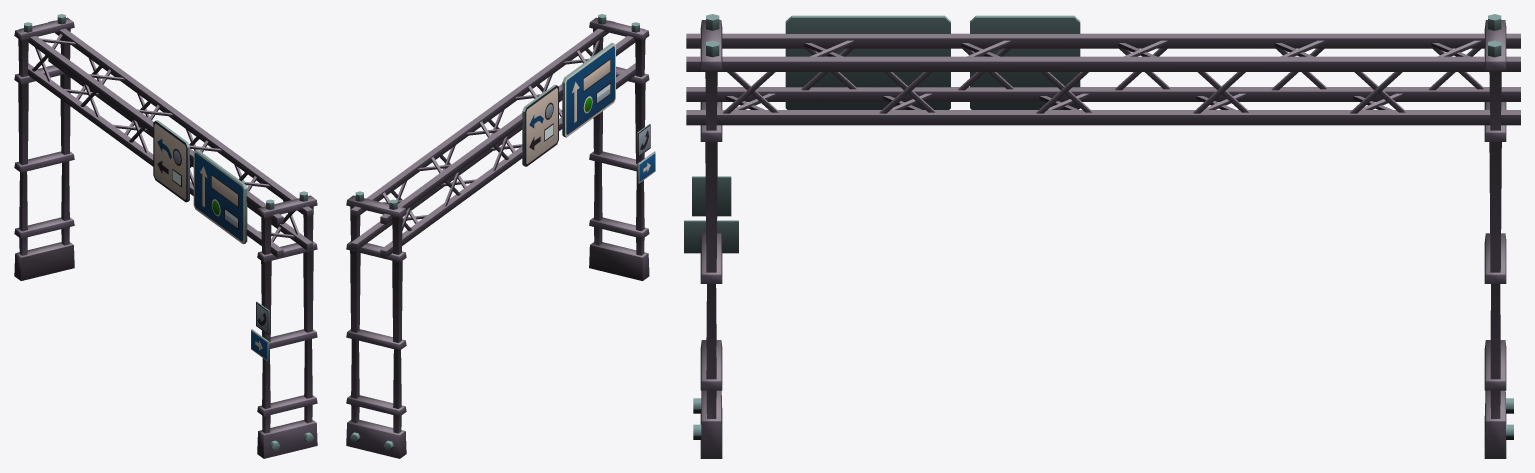
File: Highway_Streetsign_1B.fbx
3 renders of one model, left to right at view 1: azimuth 30°, elevation 25°; view 2: azimuth 150°, elevation 25°; view 3: azimuth 270°, elevation 25°, orthographic. The views are drawn at different scales.
Parts seen in each view (by area): view 1: Highway_Streetsign_1B, Addon_Sign_1E, Addon_Sign_1D, Addon_Sign_1G, Addon_Sign_1F; view 2: Highway_Streetsign_1B, Addon_Sign_1E, Addon_Sign_1D, Addon_Sign_1G, Addon_Sign_1F; view 3: Highway_Streetsign_1B, Addon_Sign_1E, Addon_Sign_1D, Addon_Sign_1G, Addon_Sign_1F.
Boxes of the visible parts, x1,y1,x2,y2 form: Highway_Streetsign_1B: [14, 14, 317, 458]; Addon_Sign_1E: [193, 149, 247, 243]; Addon_Sign_1D: [153, 120, 189, 202]; Addon_Sign_1G: [251, 329, 269, 361]; Addon_Sign_1F: [256, 301, 269, 334]; Highway_Streetsign_1B: [346, 14, 649, 458]; Addon_Sign_1E: [562, 43, 615, 137]; Addon_Sign_1D: [522, 84, 558, 166]; Addon_Sign_1G: [637, 151, 655, 183]; Addon_Sign_1F: [637, 124, 650, 157]; Highway_Streetsign_1B: [686, 14, 1520, 458]; Addon_Sign_1E: [785, 15, 950, 109]; Addon_Sign_1D: [970, 15, 1080, 109]; Addon_Sign_1G: [684, 220, 738, 253]; Addon_Sign_1F: [692, 176, 731, 216].
Size of the model in its own units: 79.64 by 349 by 651.
